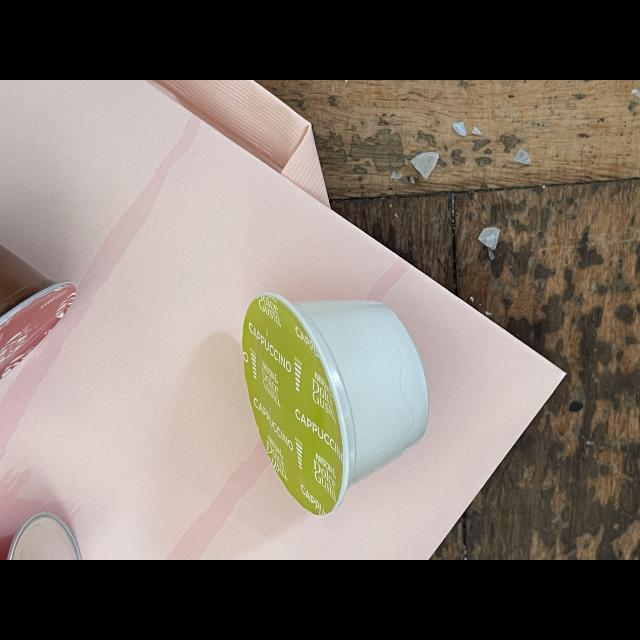intact_capsule: (227, 282, 443, 524)
